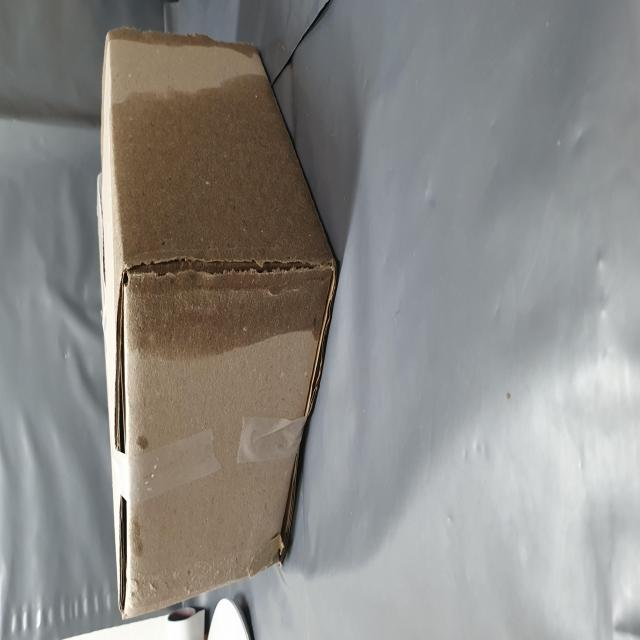wet: (147, 204, 342, 591)
